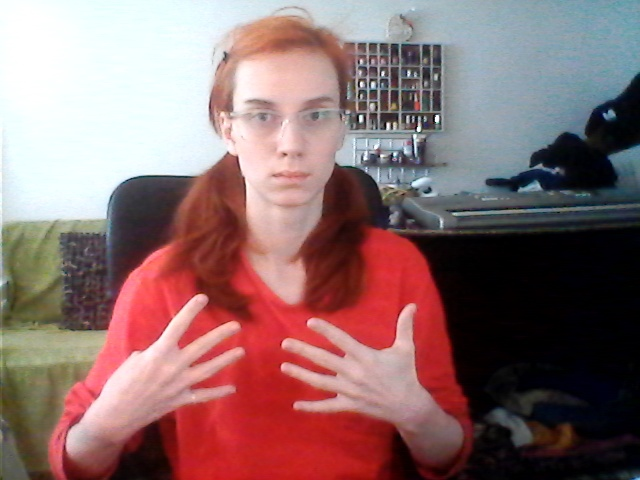devat: (97, 291, 430, 427)
